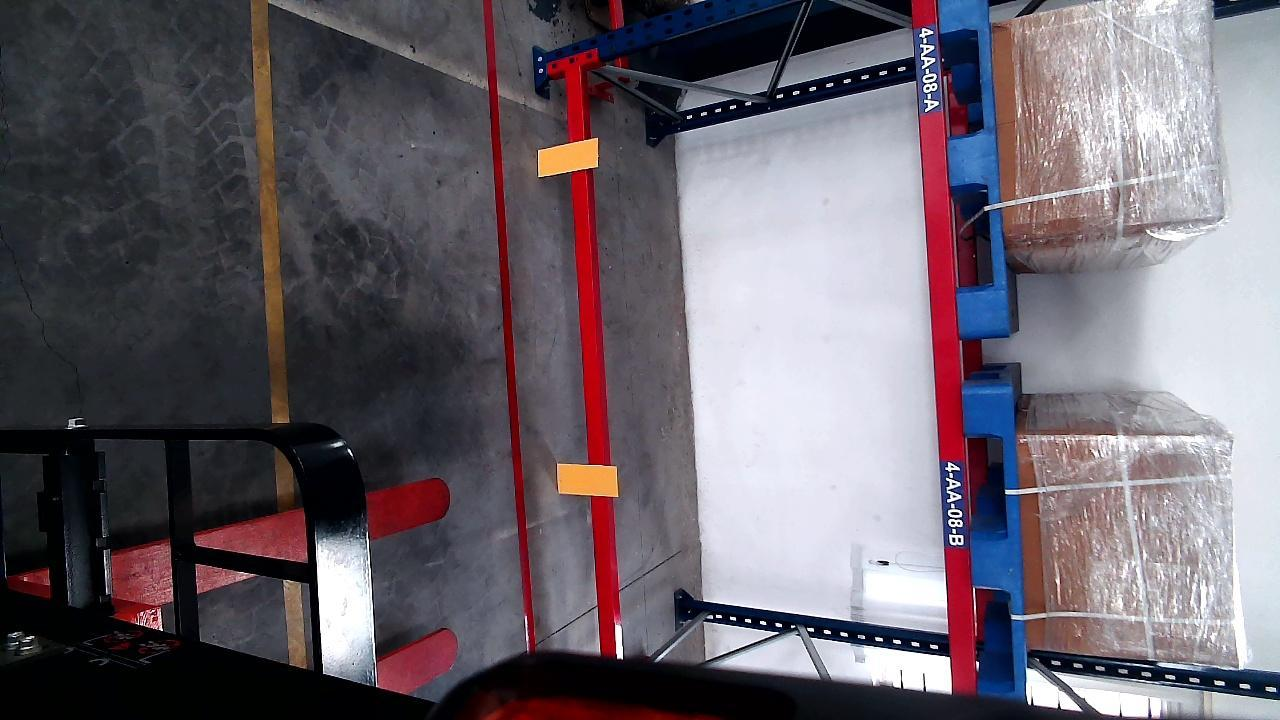red_line: (483, 2, 538, 650)
yellow_line: (253, 0, 304, 671)
